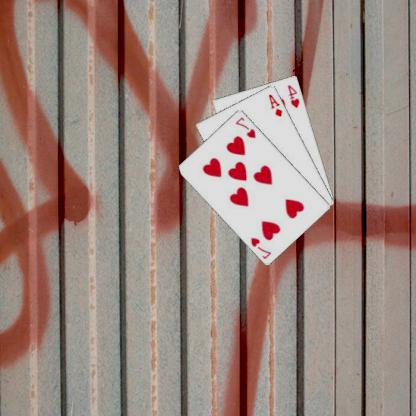4H: (287, 82, 303, 109)
7H: (234, 114, 259, 140), (250, 234, 274, 260)
AD: (268, 91, 286, 118)
